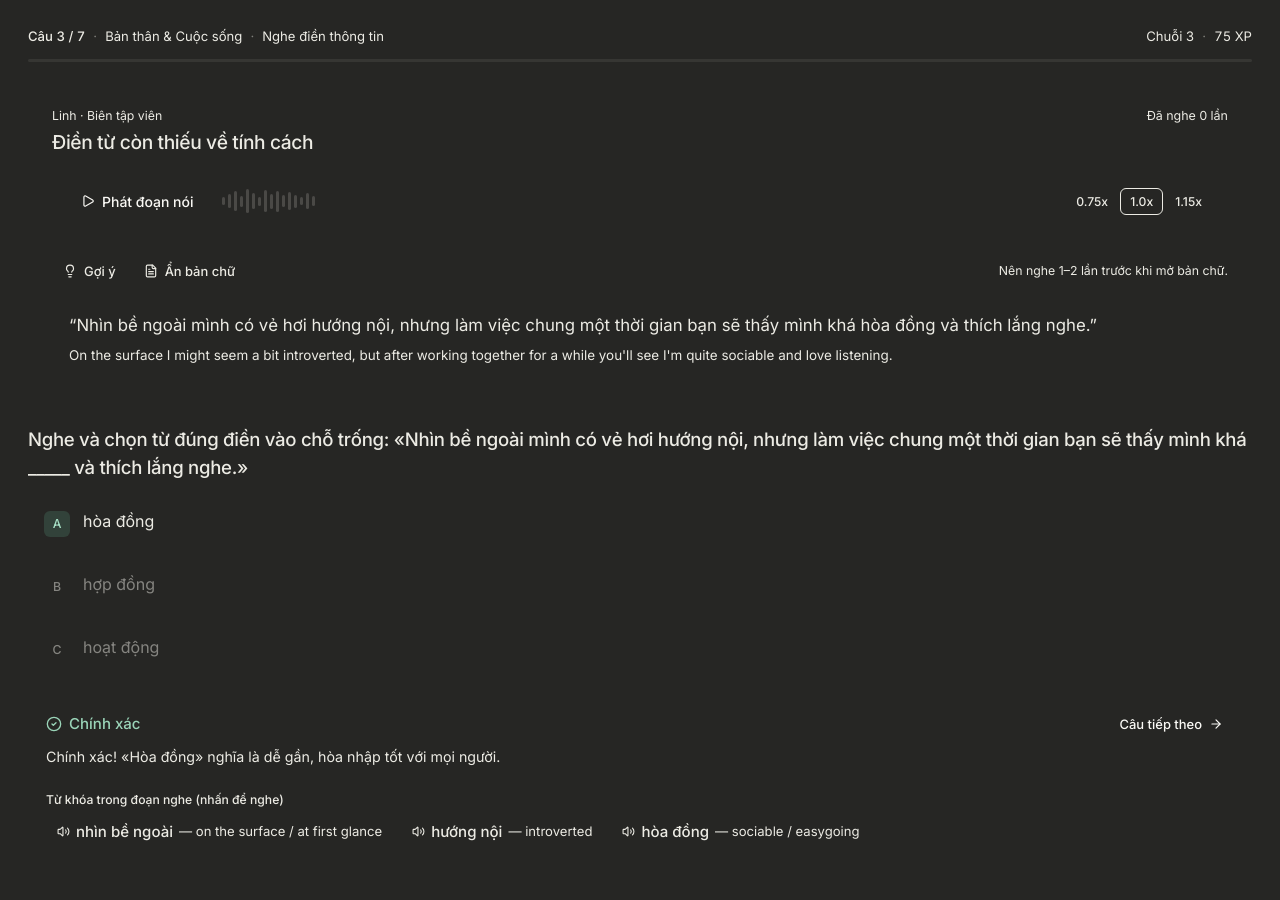
it: ListeningGame › plays audio, tracks replays, checks answers, and completes a topic round
Earlier steps of the test are not shown.
Later steps or results of the test are not shown.
Expected: the element with test id "listening-feedback" is shown, [28,694,1252,863]
Expected: the element with test id "listening-transcript" is shown, [69,315,1097,363]
Click the button with test id "listening-next-btn": x=1171, y=724 [1108,710,1234,738]
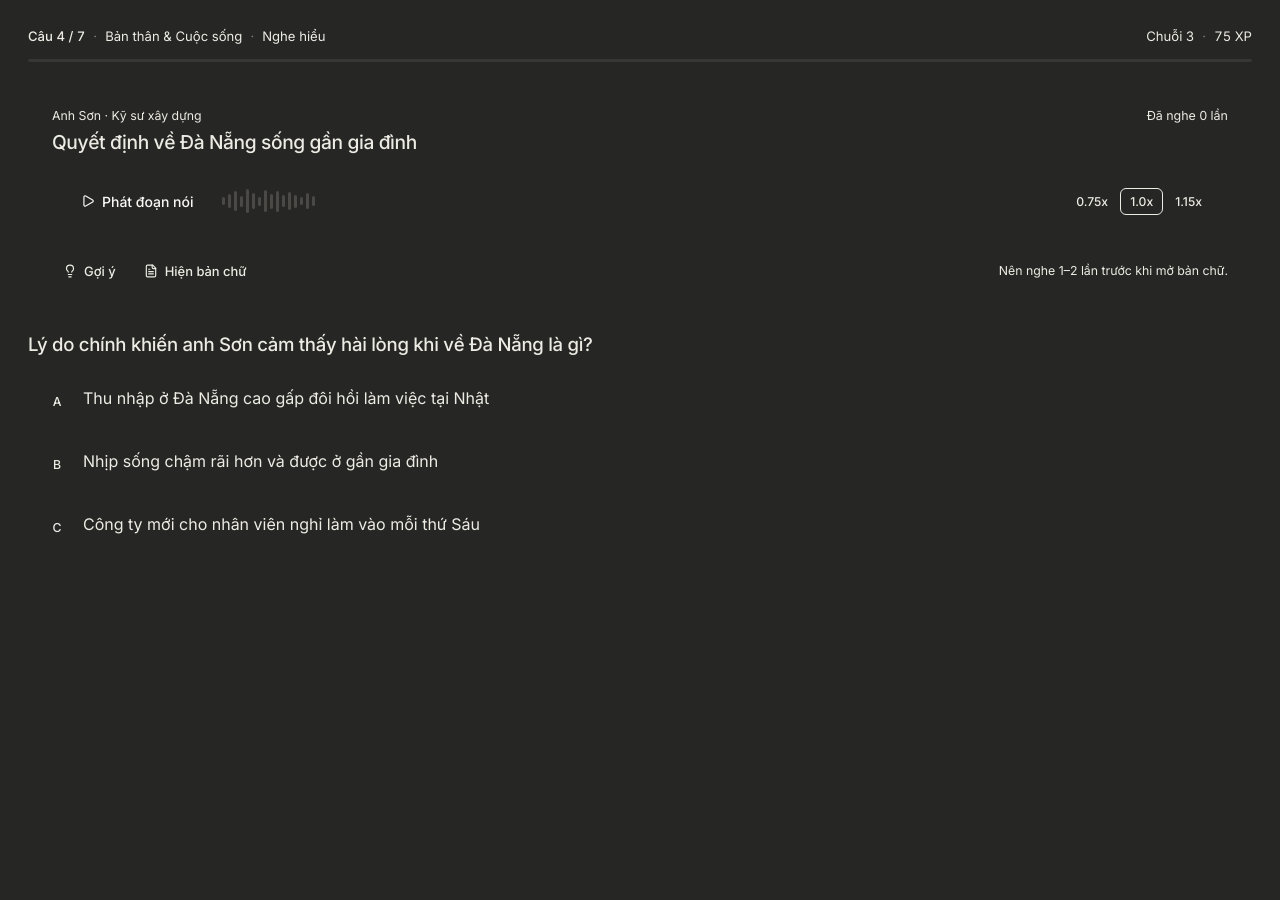
Click the button "B Nhịp sống chậm rãi hơn và được ở gần gia đình": x=261, y=461 [28,436,1252,490]
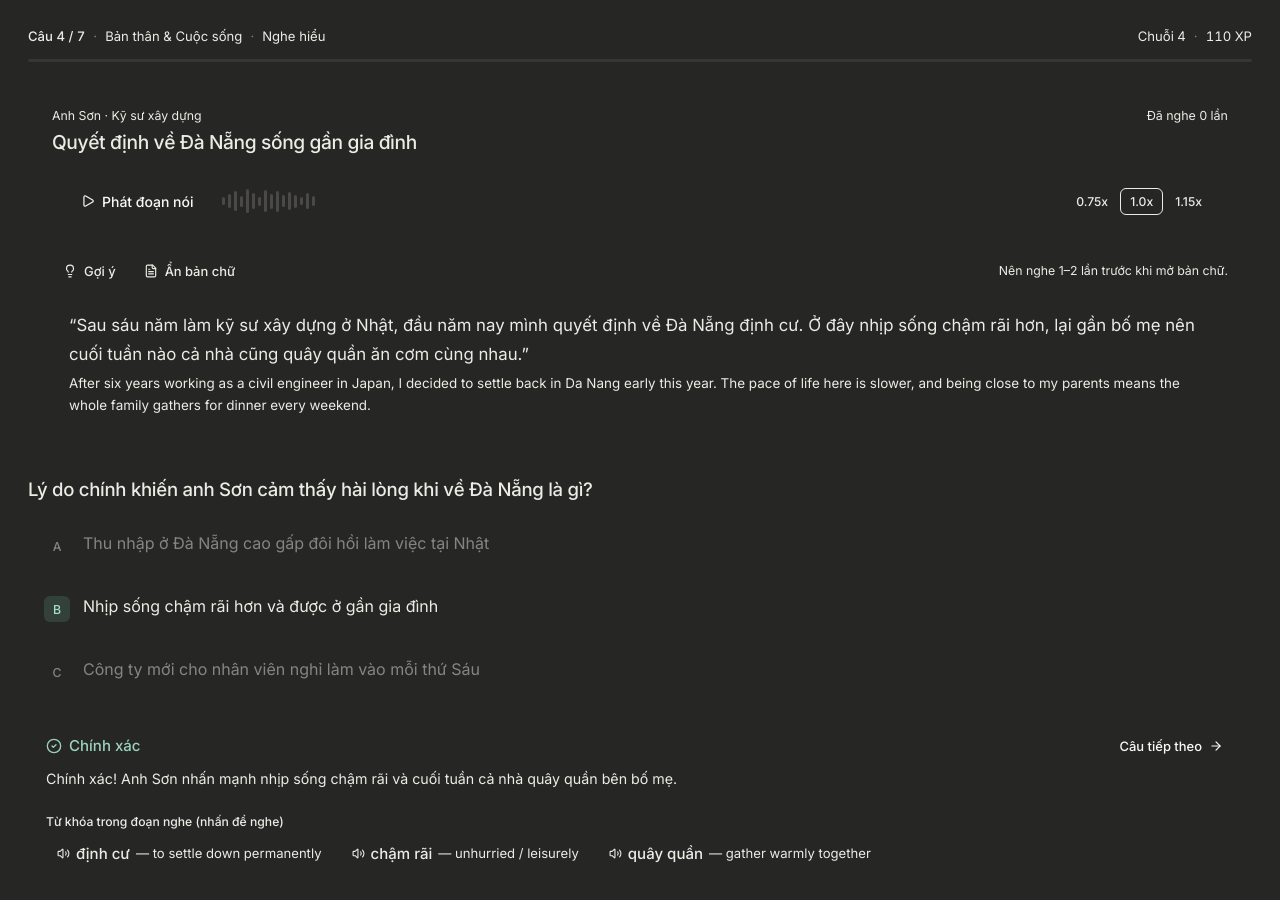
Expected: the element with test id "listening-feedback" is shown, [28,716,1252,885]
Expected: the element with test id "listening-transcript" is shown, [52,297,1228,430]
Click the button with test id "listening-next-btn": x=1171, y=746 [1108,732,1234,760]
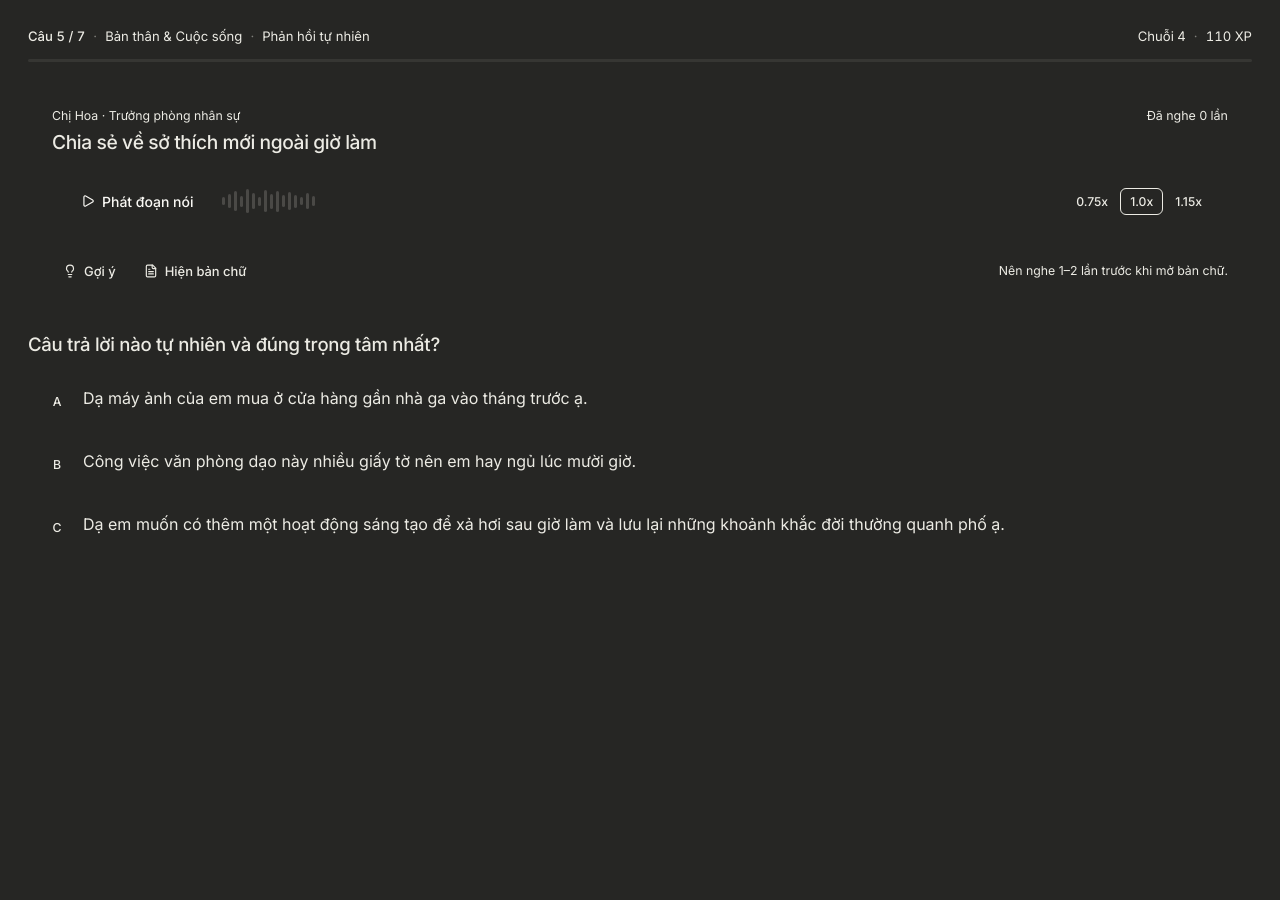
Click the 9th button: x=640, y=526 [28,499,1252,553]
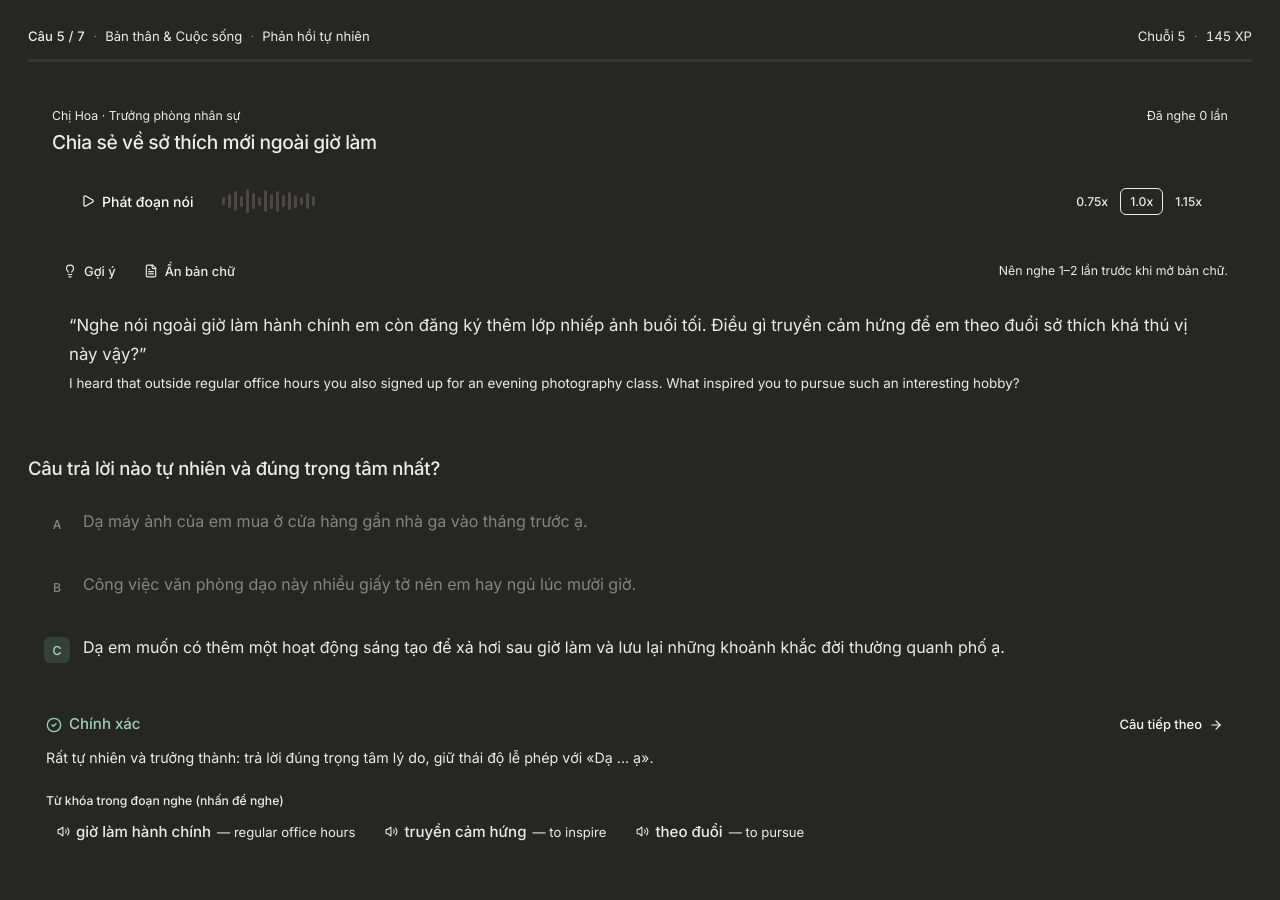
Expected: the element with test id "listening-feedback" is shown, [28,694,1252,863]
Expected: the element with test id "listening-transcript" is shown, [52,297,1228,409]
Click the button with test id "listening-next-btn": x=1171, y=724 [1108,710,1234,739]
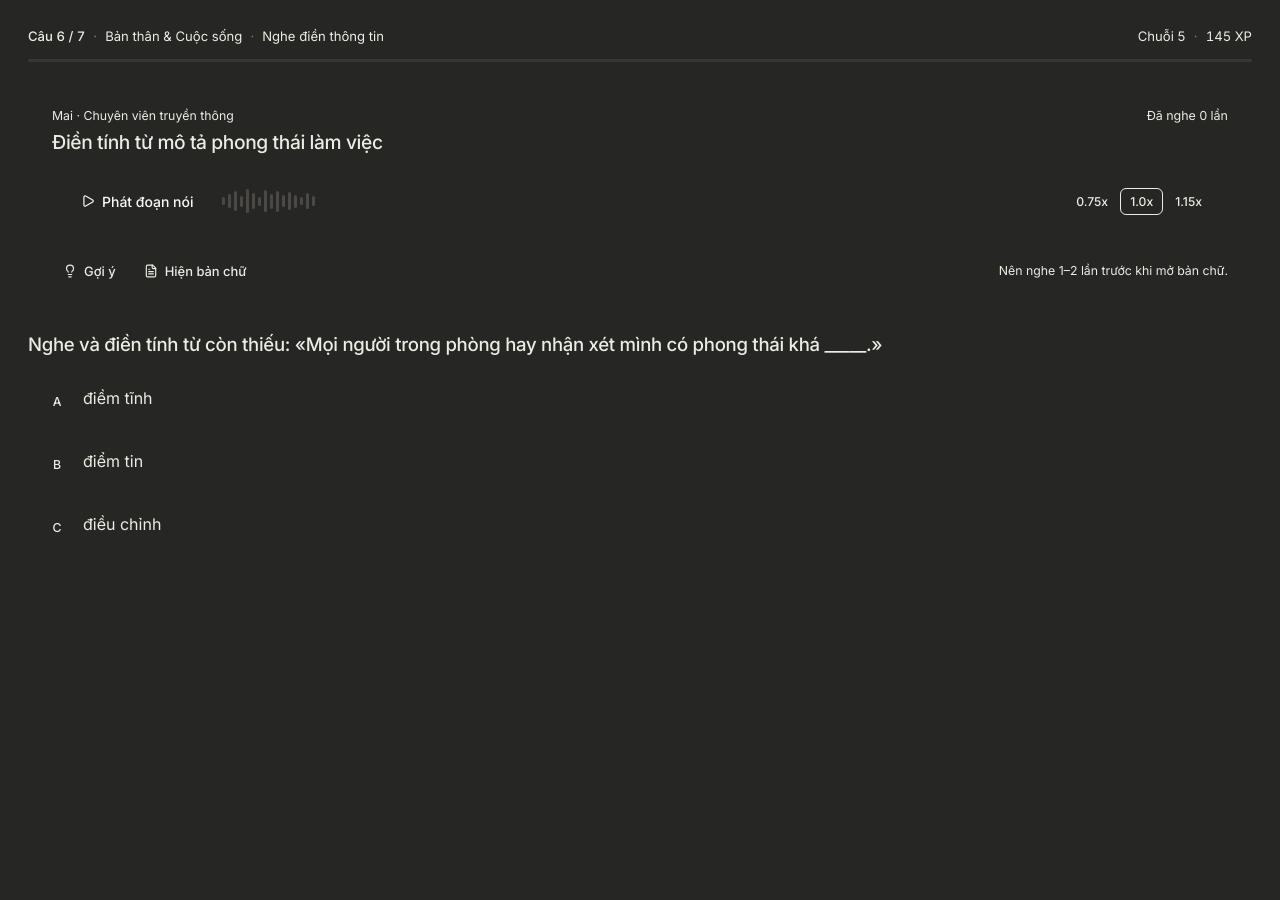
Click the button with test id "listening-option-a": x=118, y=398 [28,373,1252,427]
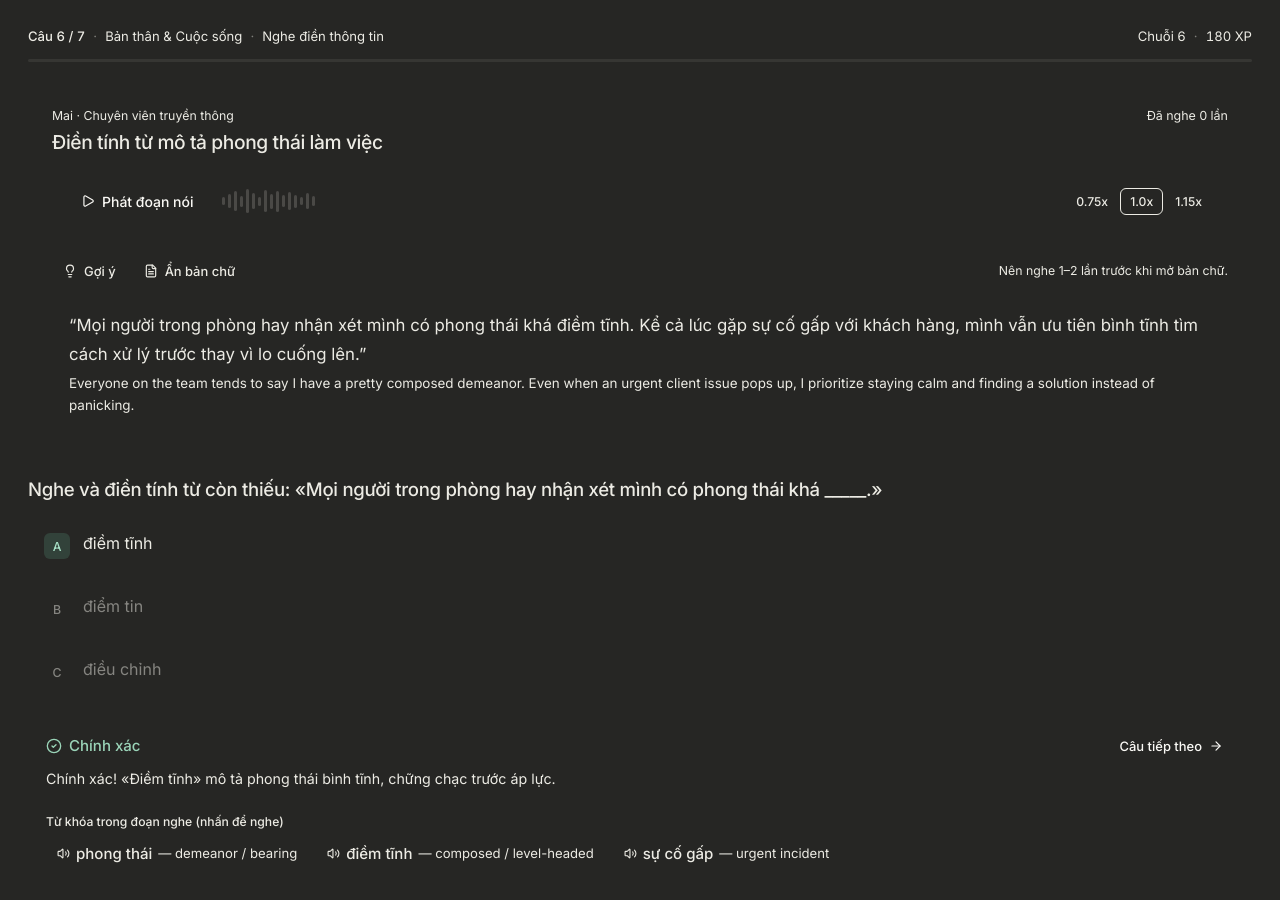
Expected: the element with test id "listening-feedback" is shown, [28,716,1252,885]
Expected: the element with test id "listening-transcript" is shown, [52,297,1228,430]
